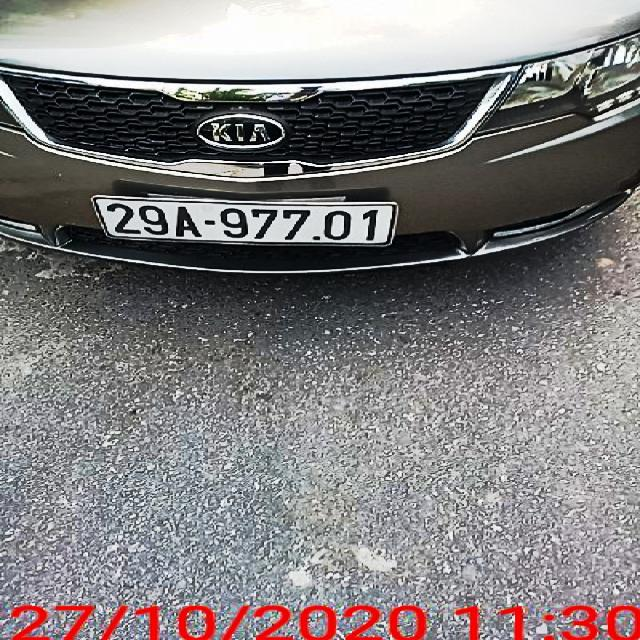license_plate: (97, 195, 395, 244)
